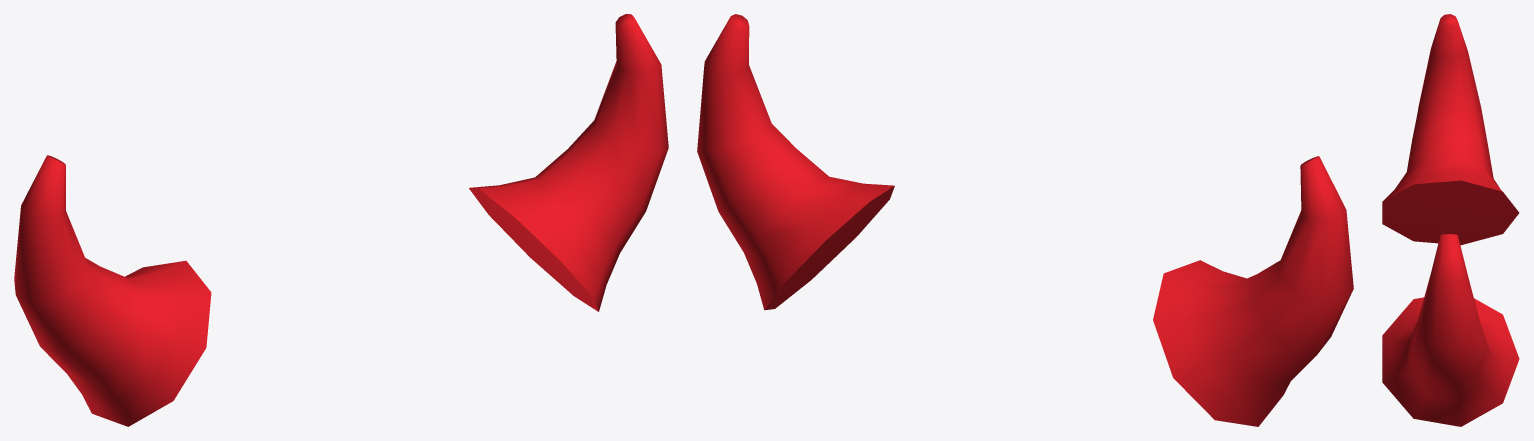
Rendered from Horns.fbx.
3 views of the same model, side by side, from view 1: azimuth 30°, elevation 25°; view 2: azimuth 150°, elevation 25°; view 3: azimuth 270°, elevation 25° (orthographic). The views are drawn at different scales.
Parts seen in each view (by area): view 1: Horns; view 2: Horns; view 3: Horns.
Boxes of the visible parts, x1=… form: Horns: x1=14, y1=14, x2=668, y2=426; Horns: x1=697, y1=14, x2=1353, y2=426; Horns: x1=1382, y1=14, x2=1519, y2=426.
Bounding box in the file's own units: 0.744 × 0.3036 × 0.1779.
